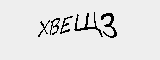В: (48, 15, 59, 41)
Е: (60, 13, 73, 34)
З: (100, 12, 117, 41)
Х: (36, 16, 51, 39)
Щ: (72, 10, 103, 39)
